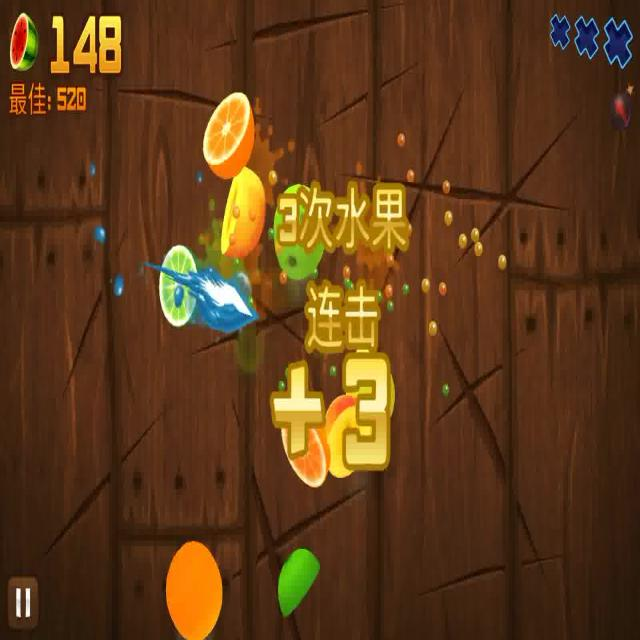fruit: (166, 535, 222, 638), (202, 92, 255, 177), (222, 167, 264, 265), (280, 408, 329, 492), (276, 183, 320, 275), (329, 388, 364, 488), (277, 545, 320, 618), (158, 244, 198, 322)
